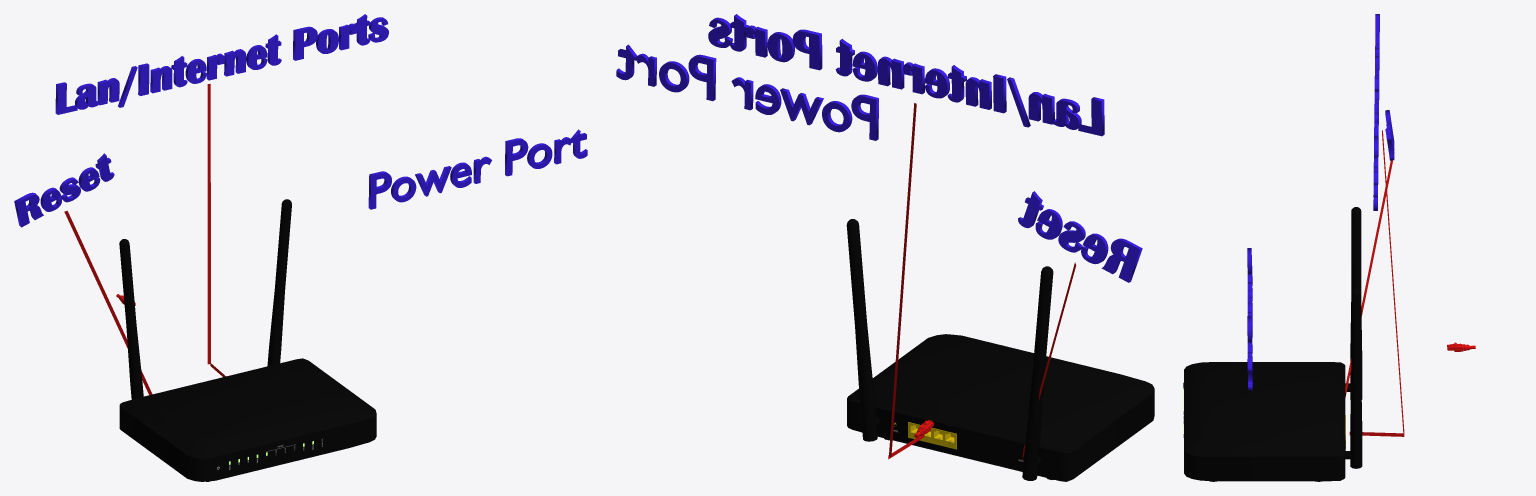
Rendered from sam.gltf.
3 renders of one model, left to right at view 1: azimuth 30°, elevation 25°; view 2: azimuth 150°, elevation 25°; view 3: azimuth 270°, elevation 25°, orthographic. The views are drawn at different scales.
Visible parts, largest first — view 1: Router, Text, Text.002, Text.001, NurbsPath.001, NurbsPath.002; view 2: Router, Text, Text.002, Text.001, NurbsPath.001; view 3: Router, Text, Text.002, NurbsPath.002, NurbsPath.001.
Part boxes in pixels (x1,y1,x2,y2): Router: [119, 199, 376, 481]; Text: [55, 14, 388, 114]; Text.002: [368, 129, 587, 209]; Text.001: [14, 153, 114, 227]; NurbsPath.001: [207, 83, 210, 364]; NurbsPath.002: [64, 210, 152, 394]; Router: [846, 219, 1154, 481]; Text: [708, 14, 1104, 136]; Text.002: [616, 44, 878, 140]; Text.001: [1018, 191, 1142, 282]; NurbsPath.001: [889, 103, 916, 456]; Router: [1183, 207, 1362, 481]; Text: [1373, 14, 1379, 210]; Text.002: [1247, 248, 1252, 390]; NurbsPath.002: [1345, 160, 1392, 397]; NurbsPath.001: [1382, 130, 1404, 433].
Bounding box in the file's own units: 2.17 × 1.45 × 1.23.
3 materials, 1 textured.
